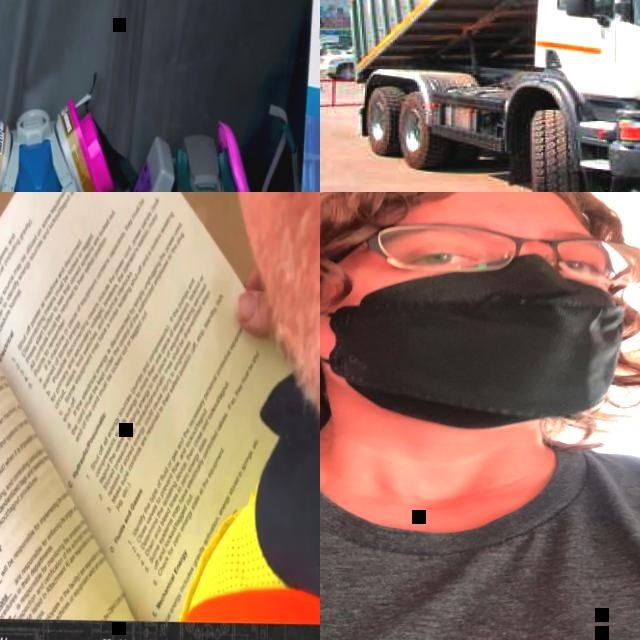Mask: (320, 251, 637, 429), (0, 95, 117, 192), (120, 115, 261, 192)
NO-Hardhat: (320, 192, 606, 229)
NO-Mask: (222, 192, 320, 438)
NO-Safety Vest: (320, 434, 640, 640)
Person: (320, 192, 640, 640), (180, 192, 320, 626)
Safety Vest: (181, 473, 320, 627)
machinery: (339, 0, 640, 192)
vehicle: (320, 46, 356, 82)
